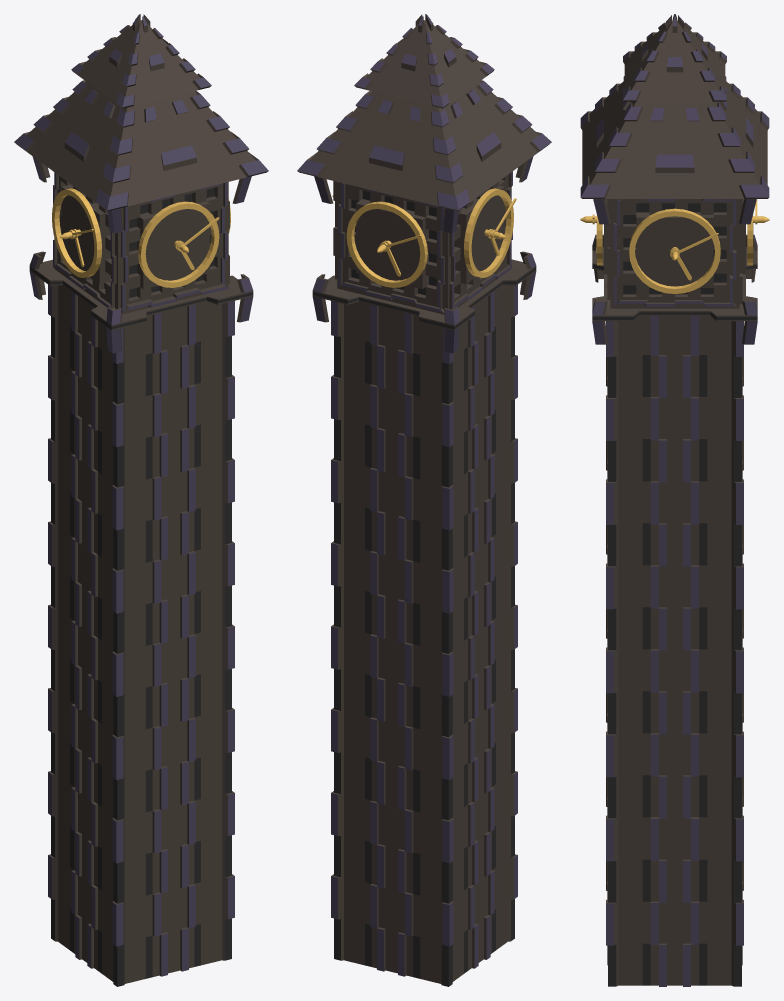
File: tower.fbx
3 views of the same model, side by side, from view 1: azimuth 30°, elevation 25°; view 2: azimuth 150°, elevation 25°; view 3: azimuth 270°, elevation 25° (orthographic).
Visible parts, largest first — view 1: Plane, Clock2.001, Clock2; view 2: Plane, Clock1.001, Clock2; view 3: Plane, Clock1.
Part boxes in pixels (left/top/right/bottom): Plane: left=14, top=14, right=268, bottom=986; Clock2.001: left=138, top=201, right=219, bottom=287; Clock2: left=52, top=188, right=101, bottom=277; Plane: left=297, top=14, right=551, bottom=986; Clock1.001: left=346, top=201, right=427, bottom=287; Clock2: left=464, top=188, right=513, bottom=277; Plane: left=580, top=14, right=769, bottom=986; Clock1: left=629, top=208, right=720, bottom=293.
Bounding box in the file's own units: 587 × 3223 × 587.
